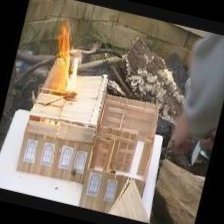fire: (39, 28, 91, 98)
